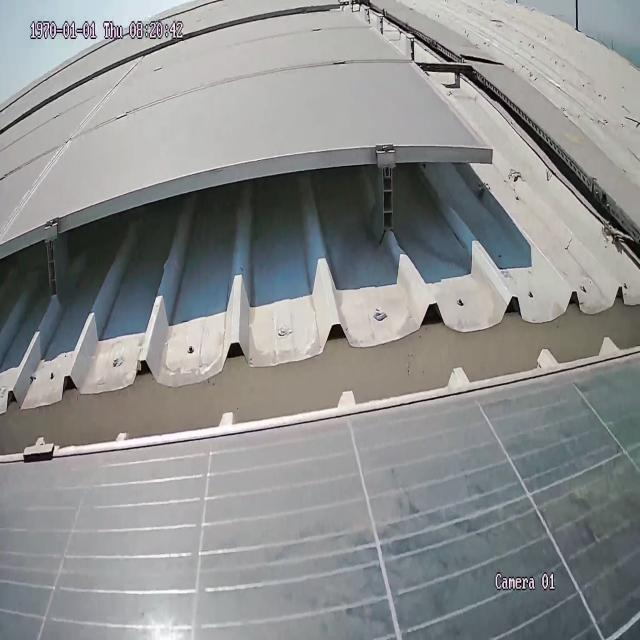outher panel: (0, 0, 640, 451)
